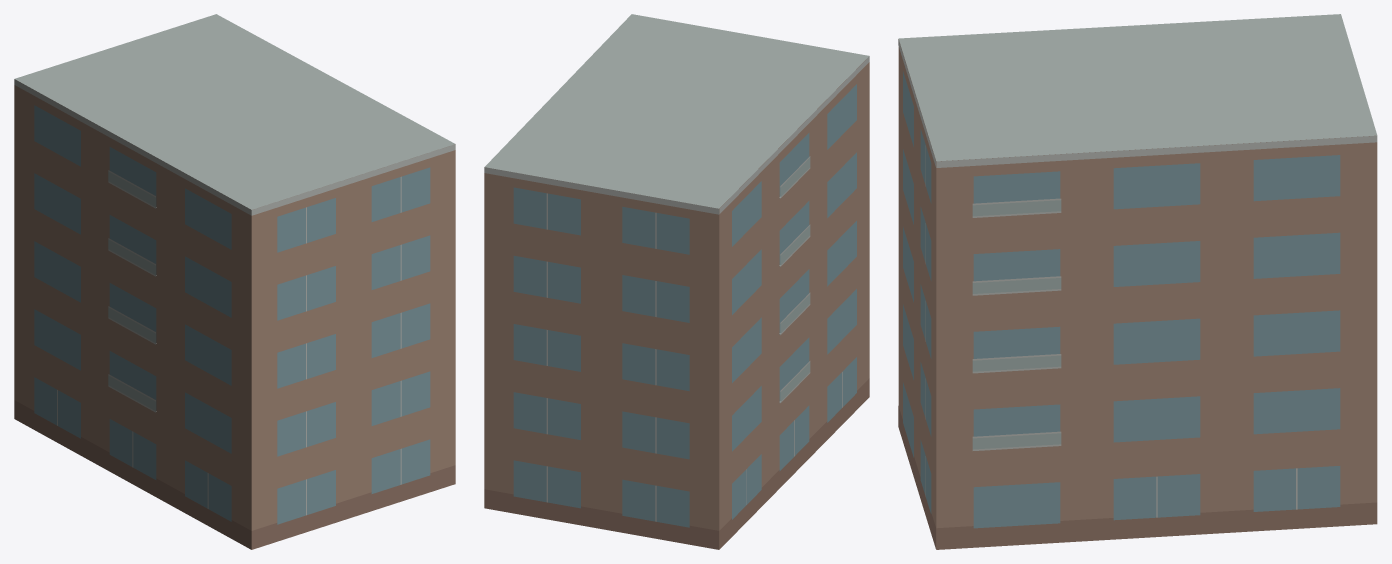
The model's file is survey-upis-33013822.glb.
3 renders of one model, left to right at view 1: azimuth 30°, elevation 25°; view 2: azimuth 150°, elevation 25°; view 3: azimuth 270°, elevation 25°, orthographic. The views are drawn at different scales.
Visible parts, largest first — view 1: survey-upis-33013822.tmp; view 2: survey-upis-33013822.tmp; view 3: survey-upis-33013822.tmp.
Part boxes in pixels (box(x1,y1,x2,y2)): survey-upis-33013822.tmp: box(14, 14, 455, 549); survey-upis-33013822.tmp: box(484, 14, 869, 549); survey-upis-33013822.tmp: box(898, 14, 1377, 549).
Bounding box in the file's own units: 11.44 × 14.05 × 15.71.
